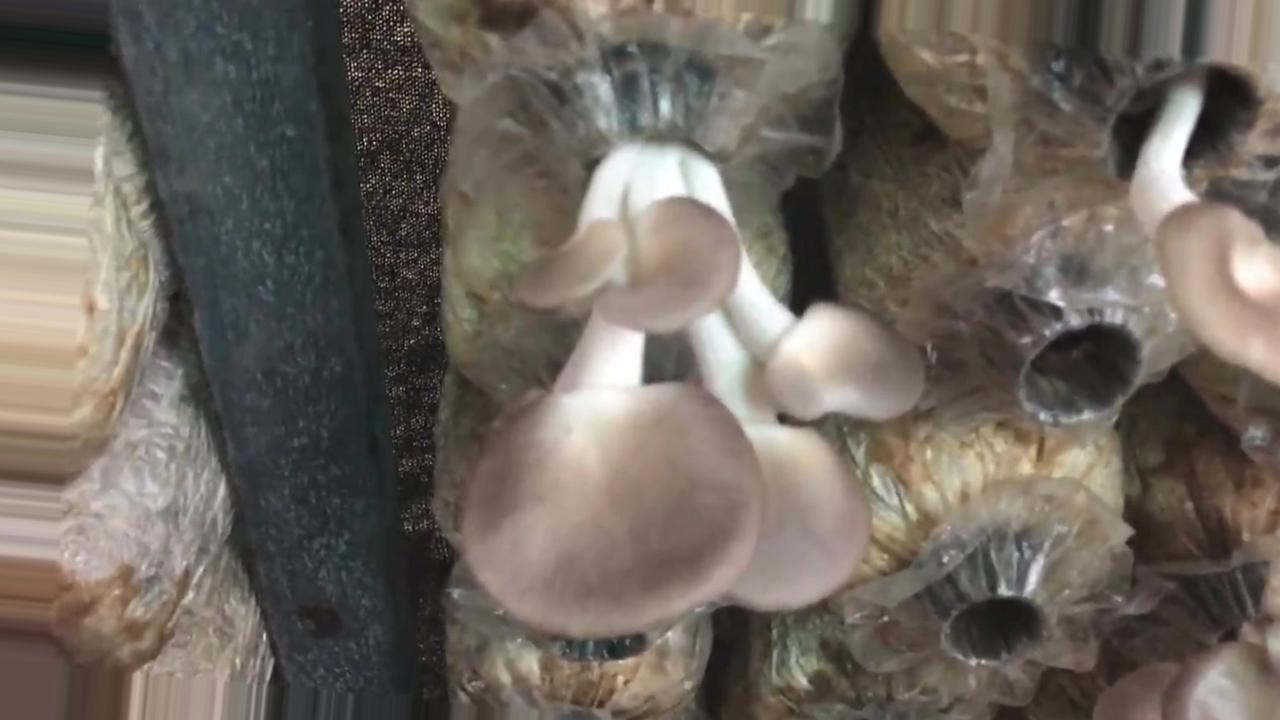nam: (467, 62, 920, 634), (1109, 55, 1280, 382)
